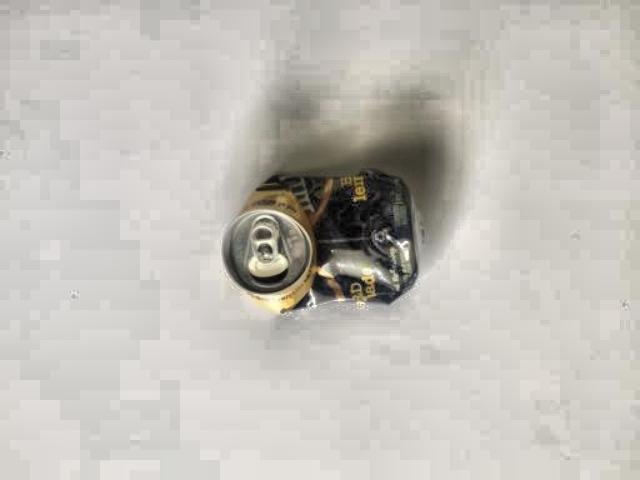Bottles: (217, 153, 442, 333)
